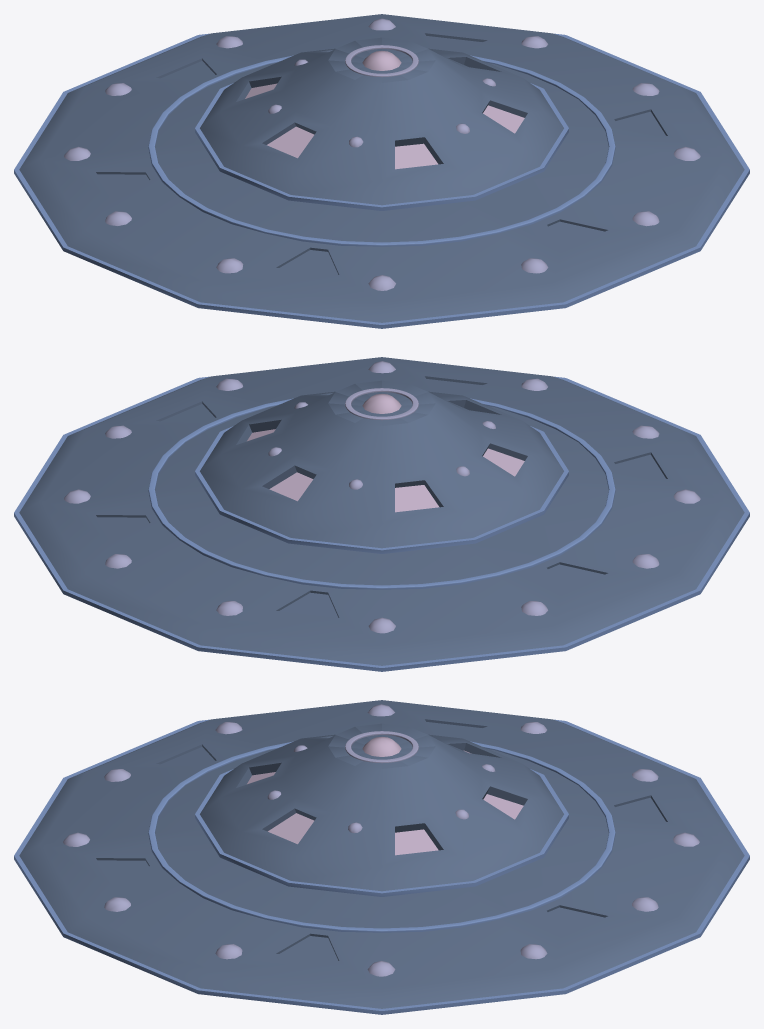
File: mothership.glb
The picture shows the model from 3 angles, top to bottom: view 1: azimuth 30°, elevation 25°; view 2: azimuth 150°, elevation 25°; view 3: azimuth 270°, elevation 25°; orthographic projection.
Parts seen in each view (by area): view 1: mothership; view 2: mothership; view 3: mothership.
Part boxes in pixels (bbox=[...]): mothership: bbox=[14, 14, 749, 328]; mothership: bbox=[14, 357, 749, 671]; mothership: bbox=[14, 700, 749, 1014].
Size of the model in its own units: 1 by 0.2556 by 1.
